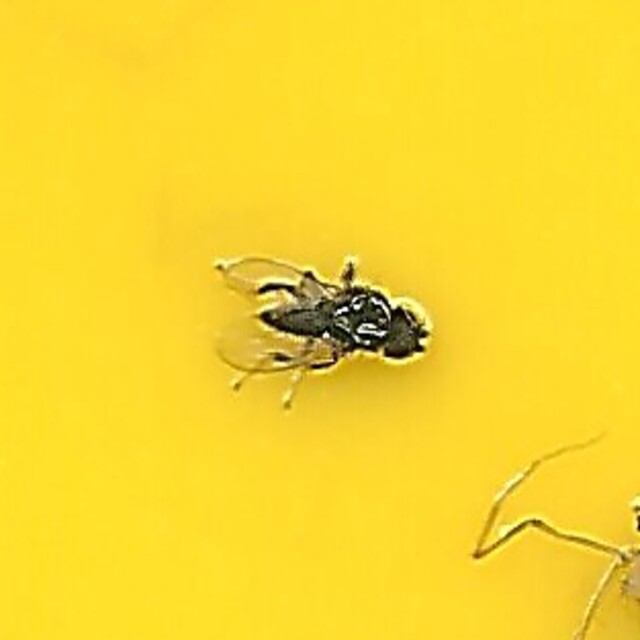Brachycera: (204, 240, 436, 400)
